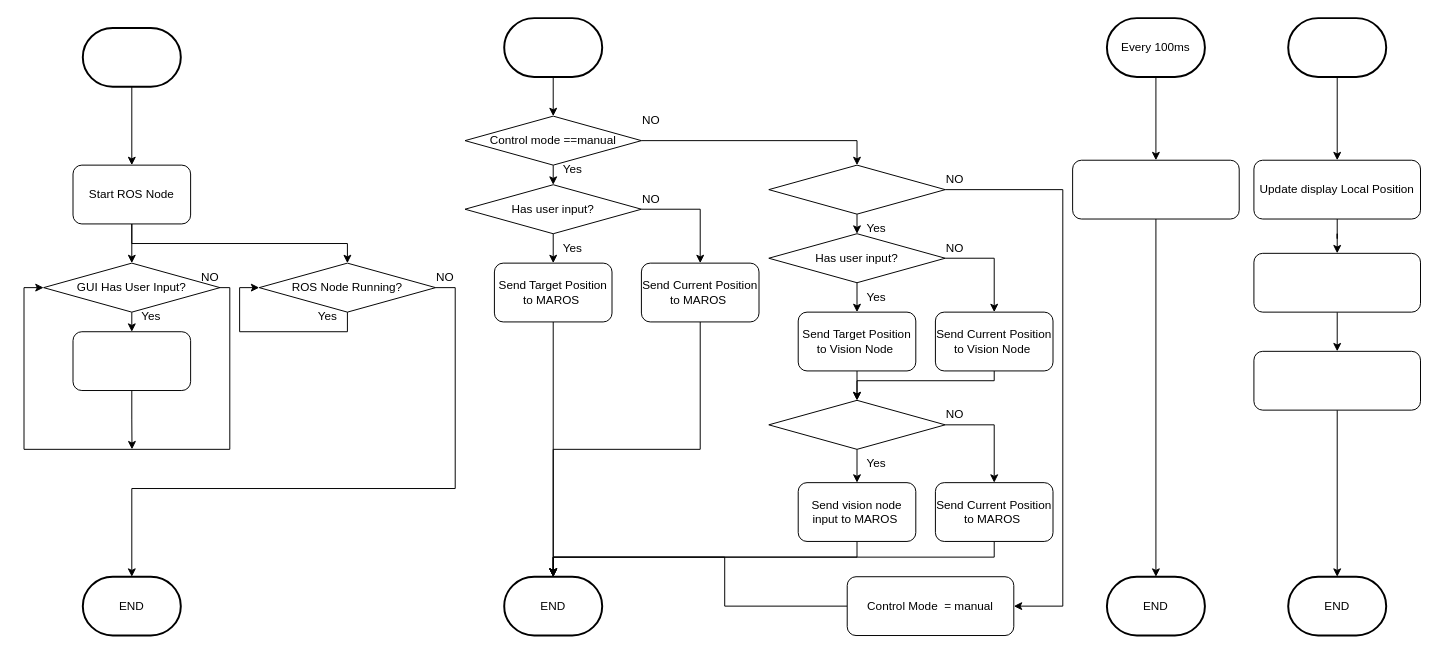
The diagram is 1438 pixels wide and 653 high, and some of its shapes have lost their labels. Each missing label, with the centre of its shape:
Control mode ==Auto: (x=856, y=189)
Every 3ms: (x=553, y=47)
Every 500ms: (x=1337, y=47)
Has vision node input?: (x=856, y=424)
Send GetDroneState To Offboard Mode: (x=1155, y=189)
Start: (x=131, y=56)
Update display Control Mode Status: (x=1337, y=380)
Update display PX4 Status: (x=1337, y=282)
Update variable according to user input: (x=131, y=361)
